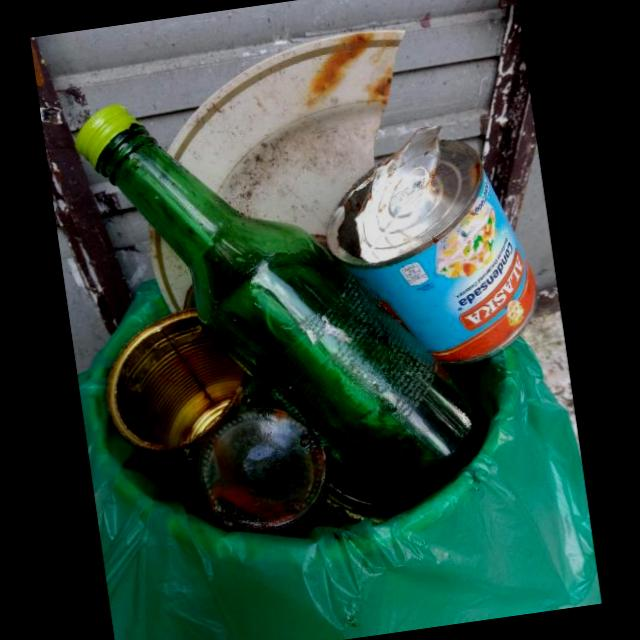chai_thuy_tinh: (75, 104, 488, 516)
nhom: (324, 126, 539, 366), (107, 307, 249, 451)
